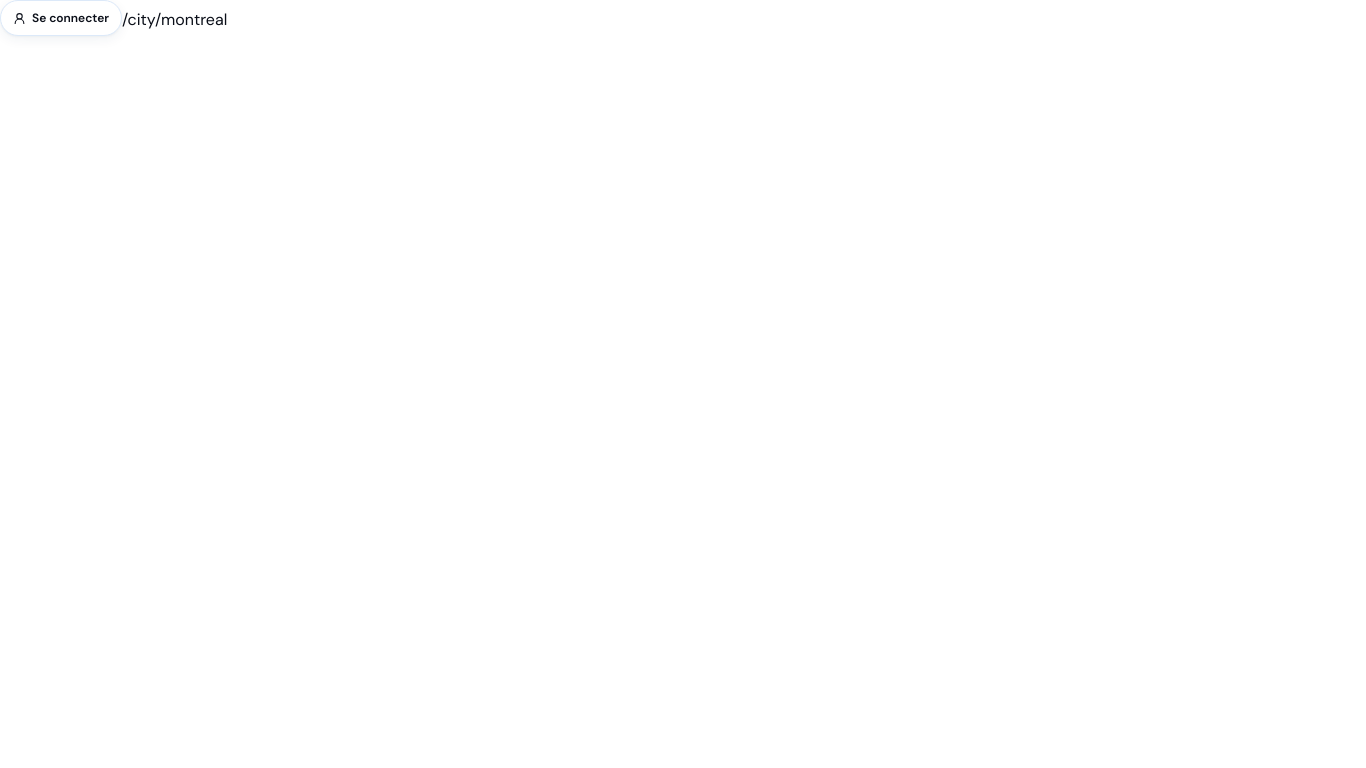
Scenario: owned QMAPS account navigation › starts owned registration from the generic Créer un compte action
The image size is (1366, 768).
Click the button "Se connecter": (61, 18) left=0, top=0, right=122, bottom=36
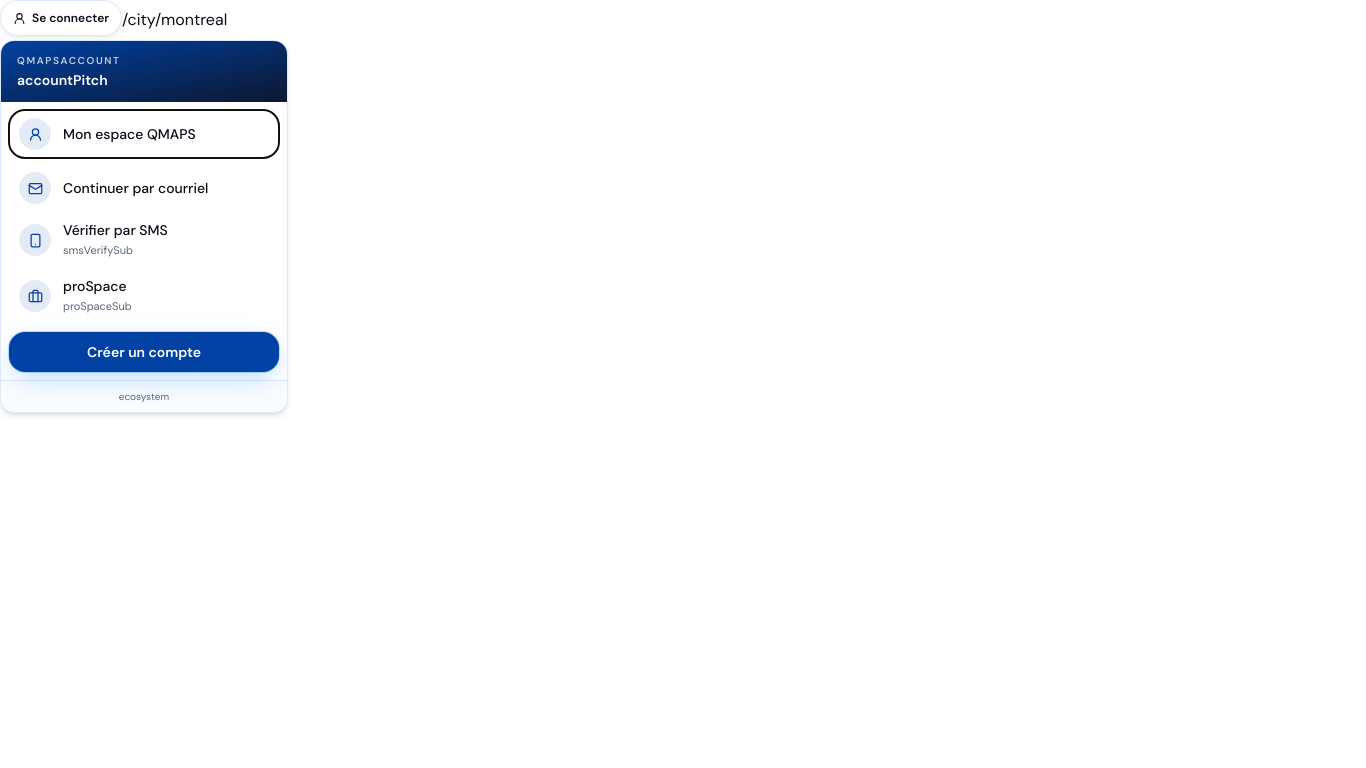
Expected: the dialog is shown, left=0, top=40, right=288, bottom=413
Expected: the button "Créer un compte" is shown
Click the button "Créer un compte": (144, 352) left=9, top=332, right=279, bottom=372
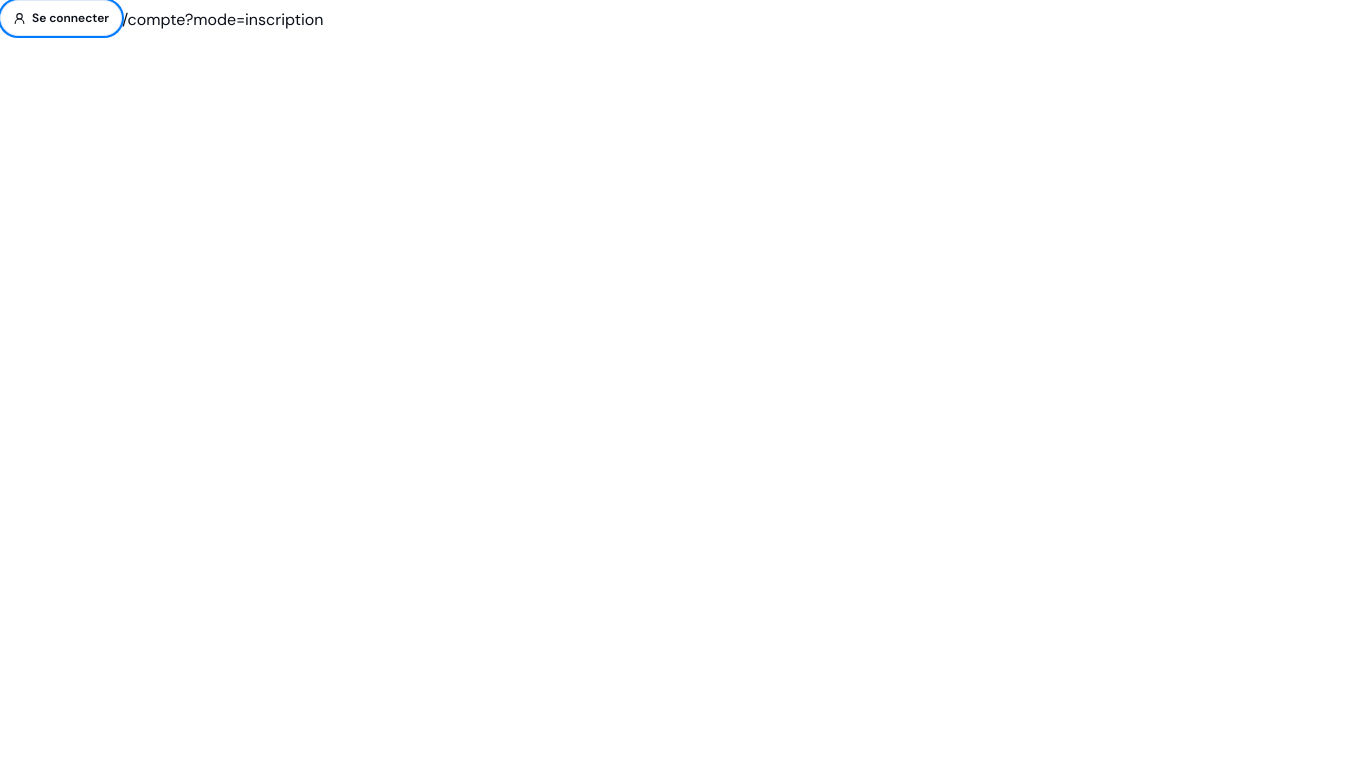
Expected: the text "/compte?mode=inscription" is shown, left=122, top=8, right=323, bottom=30
